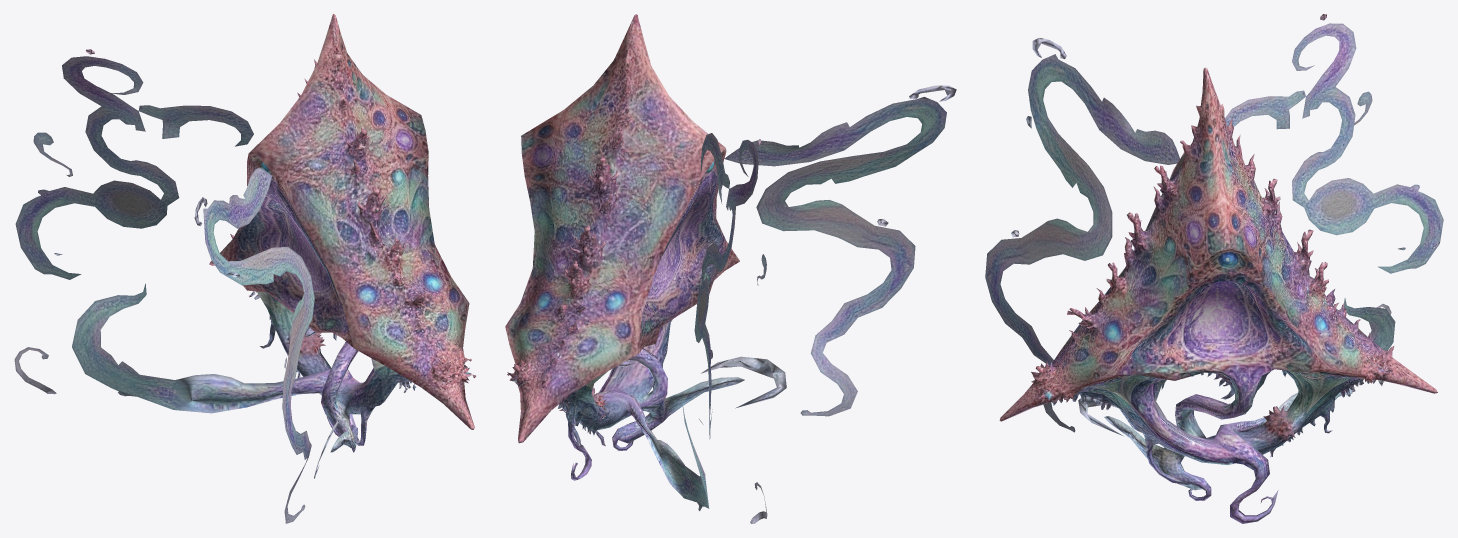
Rendered from hadal-warpcoral-prism-echo.glb.
The picture shows the model from 3 angles, left to right: view 1: azimuth 30°, elevation 25°; view 2: azimuth 150°, elevation 25°; view 3: azimuth 270°, elevation 25°; orthographic projection. The views are drawn at different scales.
Parts seen in each view (by area): view 1: tripo_node_31573509-ad2a-4560-9d00-1ce27c4ee419; view 2: tripo_node_31573509-ad2a-4560-9d00-1ce27c4ee419; view 3: tripo_node_31573509-ad2a-4560-9d00-1ce27c4ee419.
Part boxes in pixels (x1,y1,x2,y2): tripo_node_31573509-ad2a-4560-9d00-1ce27c4ee419: (14,14,475,523); tripo_node_31573509-ad2a-4560-9d00-1ce27c4ee419: (505,14,956,523); tripo_node_31573509-ad2a-4560-9d00-1ce27c4ee419: (985,14,1443,523).
Bounding box in the file's own units: 0.7598 × 0.998 × 0.9434.
Materials: 1 (1 with a texture image).
